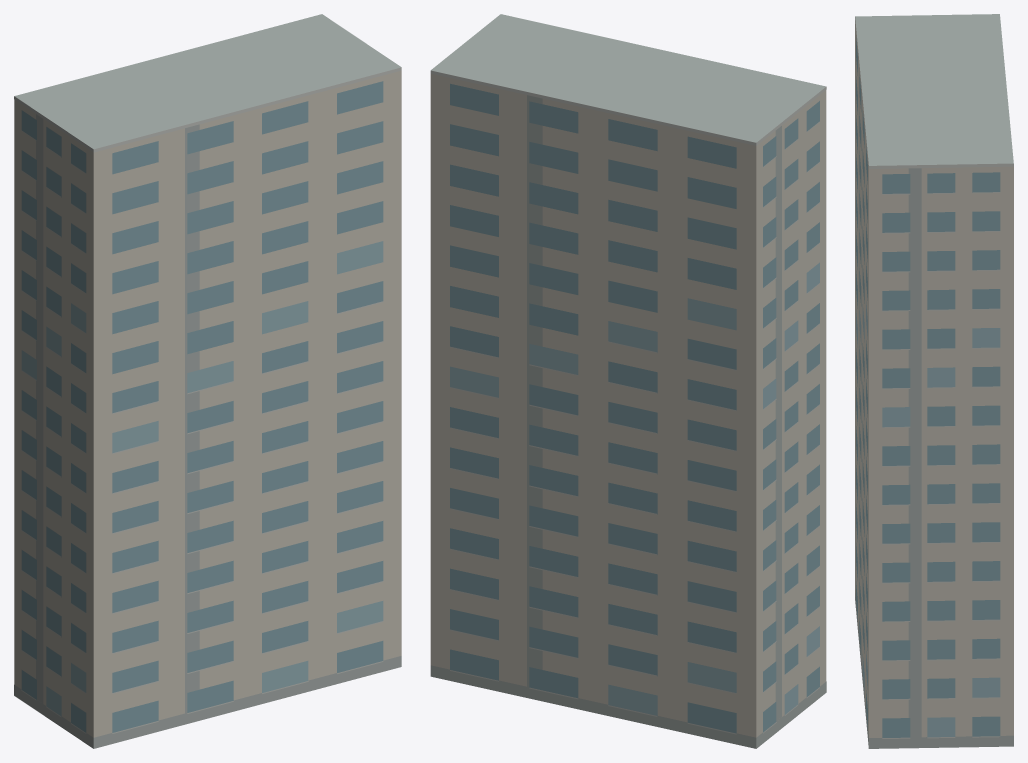
Rendered from residential-d5fc20c1-a92d-40e8-acc6-e918da5fe3c9.glb.
The picture shows the model from 3 angles, left to right: view 1: azimuth 30°, elevation 25°; view 2: azimuth 150°, elevation 25°; view 3: azimuth 270°, elevation 25°; orthographic projection. The views are drawn at different scales.
Visible parts, largest first — view 1: residential-d5fc20c1-a92d-40e8-acc6-e918da5fe3c9.tmp; view 2: residential-d5fc20c1-a92d-40e8-acc6-e918da5fe3c9.tmp; view 3: residential-d5fc20c1-a92d-40e8-acc6-e918da5fe3c9.tmp.
Boxes of the visible parts, x1,y1,x2,y2 form: residential-d5fc20c1-a92d-40e8-acc6-e918da5fe3c9.tmp: (14,14,401,748); residential-d5fc20c1-a92d-40e8-acc6-e918da5fe3c9.tmp: (430,14,826,748); residential-d5fc20c1-a92d-40e8-acc6-e918da5fe3c9.tmp: (855,14,1013,748).
Size of the model in its own units: 25.58 by 45.75 by 11.3.
